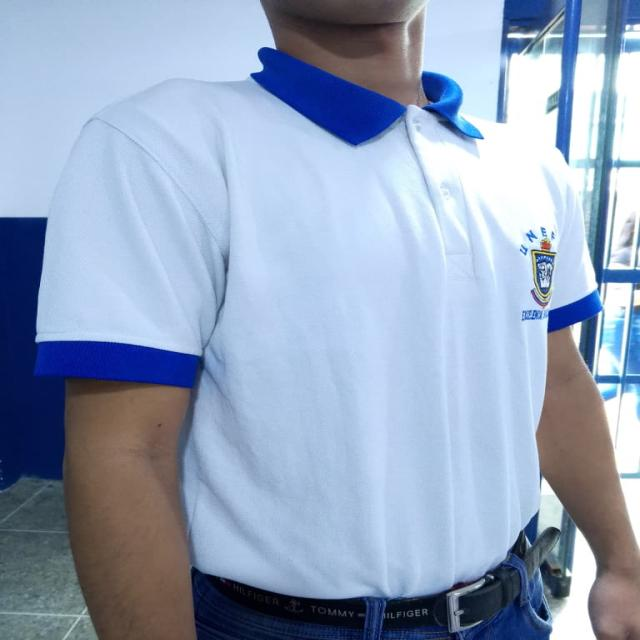uniforme_superior: (32, 45, 606, 601)
